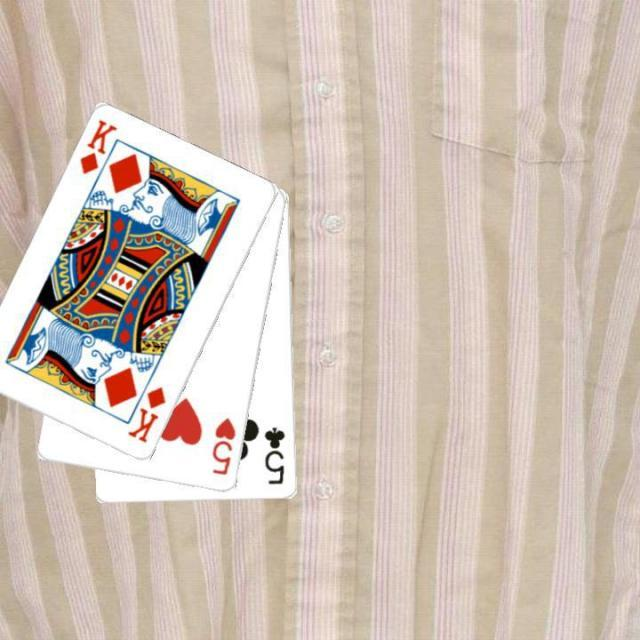5C: (261, 424, 287, 487)
5H: (208, 414, 238, 478)
KD: (124, 383, 168, 445), (76, 115, 120, 177)
